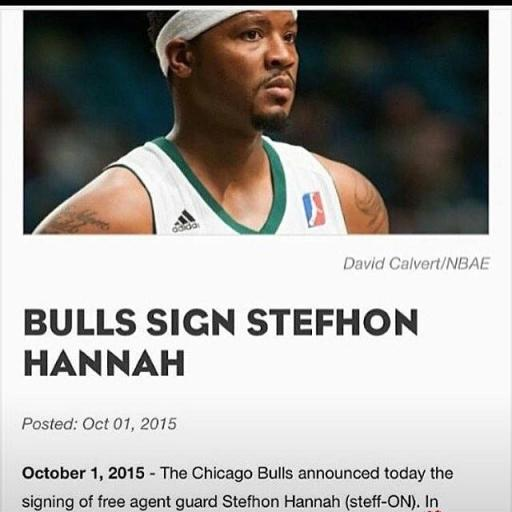Adidas: (170, 208, 199, 234)
